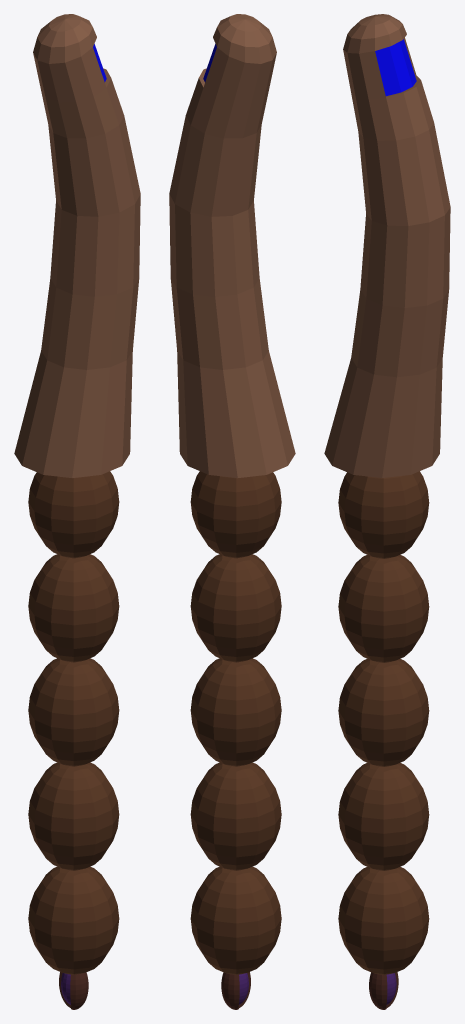
The model's file is Wand 247.glb.
The picture shows the model from 3 angles, left to right: view 1: azimuth 30°, elevation 25°; view 2: azimuth 150°, elevation 25°; view 3: azimuth 330°, elevation 25°; orthographic projection.
Visible parts, largest first — view 1: GeneratedWand; view 2: GeneratedWand; view 3: GeneratedWand.
Part boxes in pixels (x1,y1,x2,y2): GeneratedWand: (14, 14, 140, 1009); GeneratedWand: (169, 14, 295, 1009); GeneratedWand: (324, 14, 450, 1009).
Size of the model in its own units: 0.0644 by 0.5401 by 0.0572.
